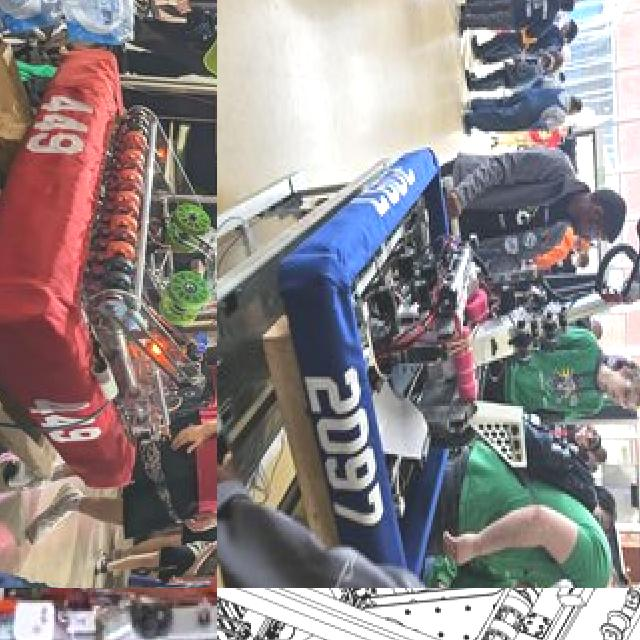FRC-Robots: (301, 46, 640, 581), (0, 54, 217, 507), (217, 588, 640, 640), (0, 588, 217, 640)
